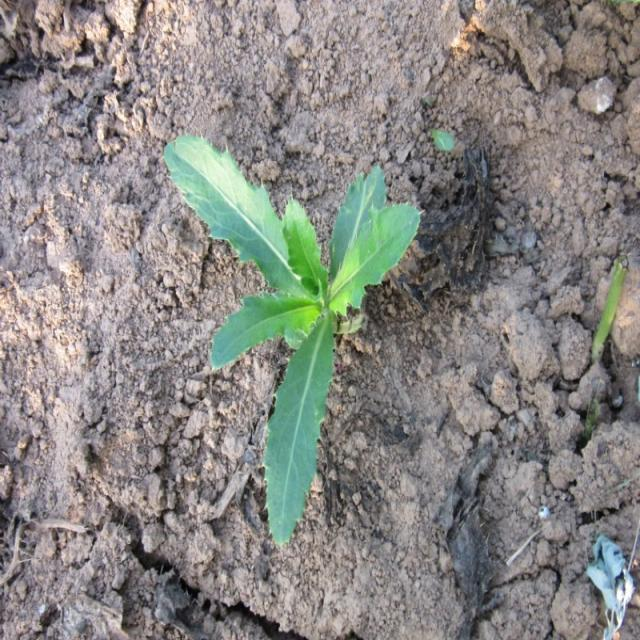cs: (162, 134, 422, 546)
